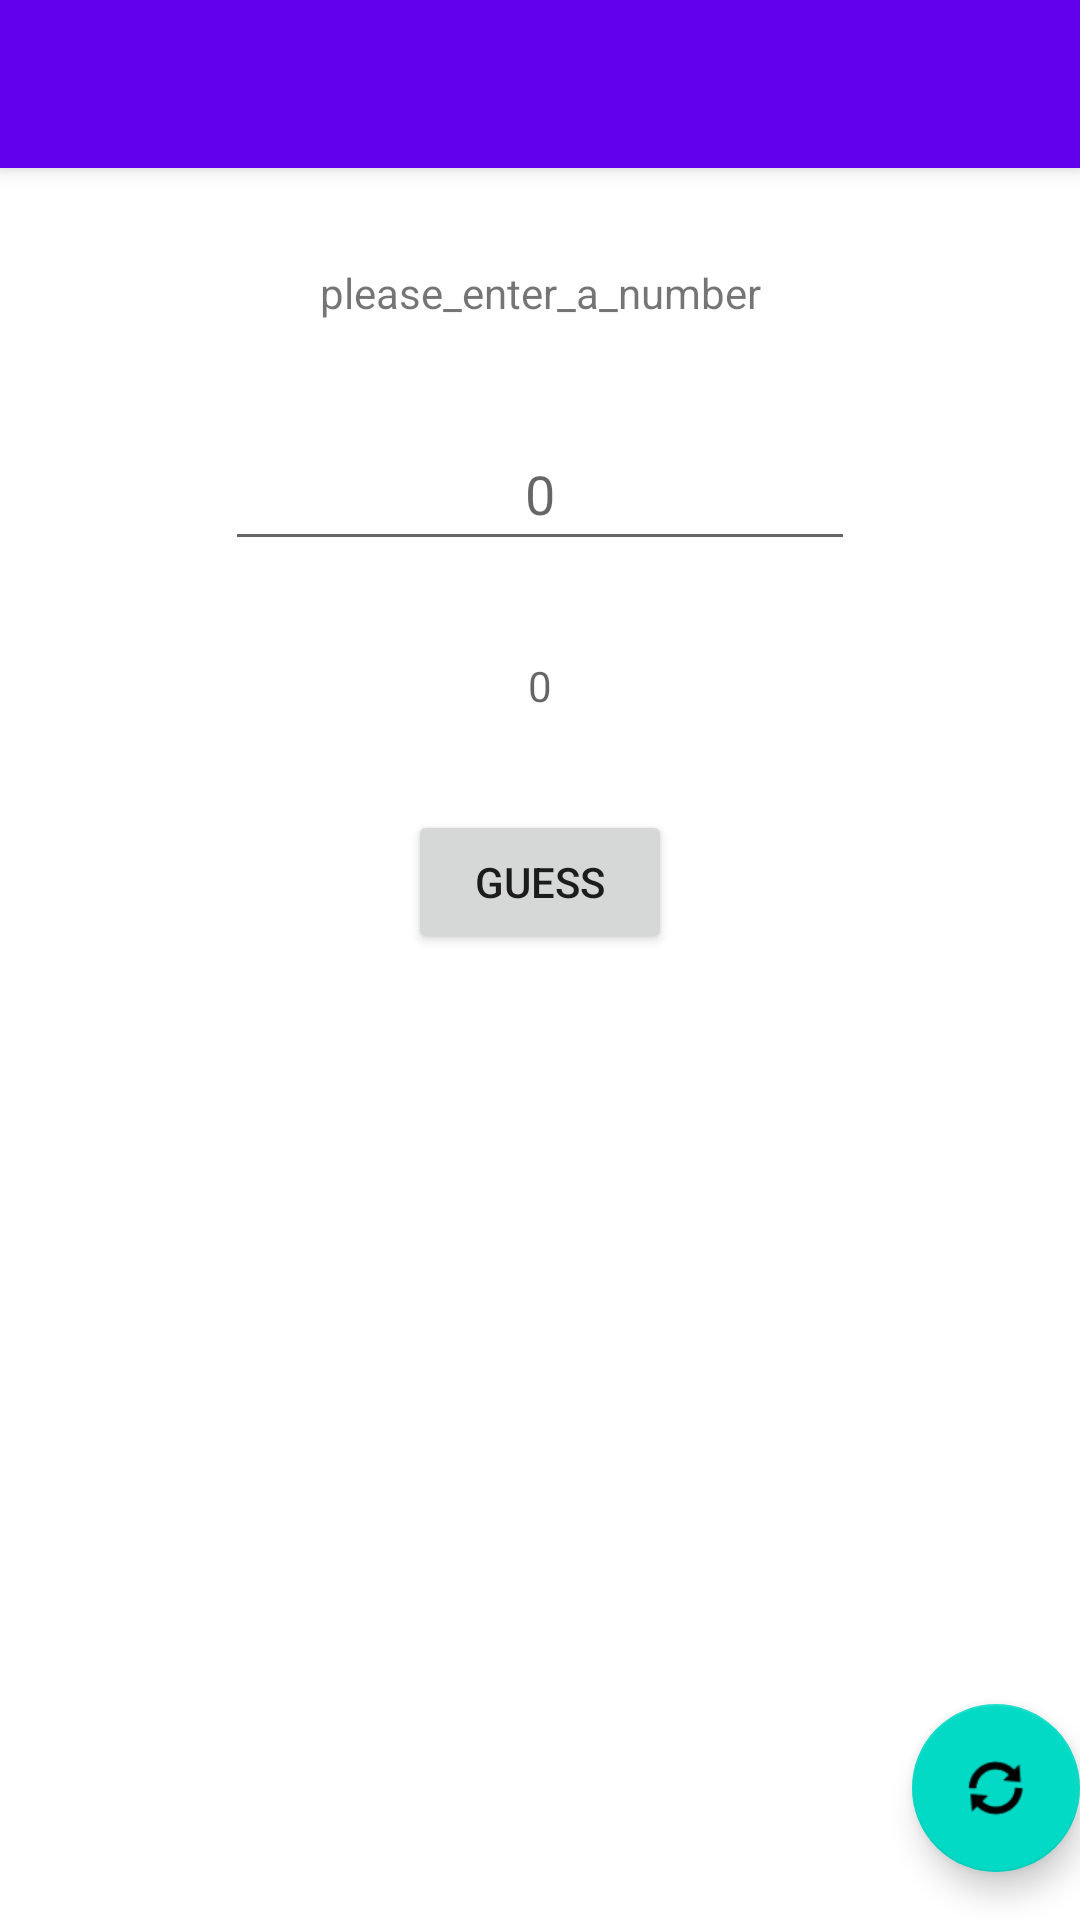

Icons on this 1080×1920 Android screen, each with the point to tap as (x,y):
popup sync: (996,1788)
